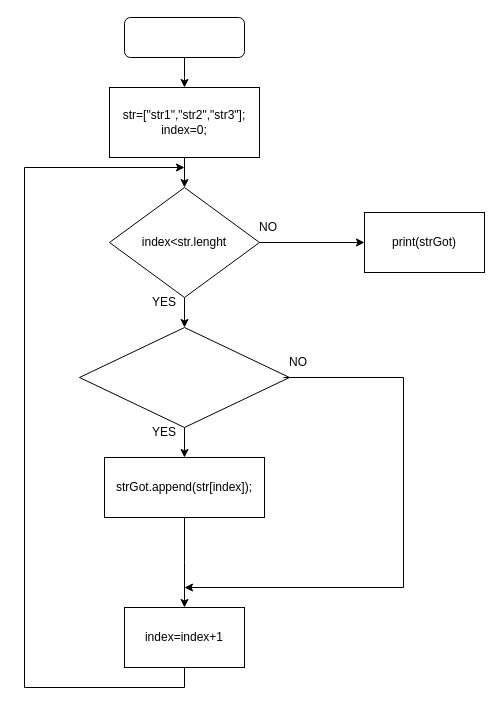
Some shapes in this 502 by 713 pixel diagram are drawn without their labels. Here are the shapes that lost their labels. From the top down, the centre of each, then its label:
[184,37]: begin
[184,377]: str[index].lenght>=3
